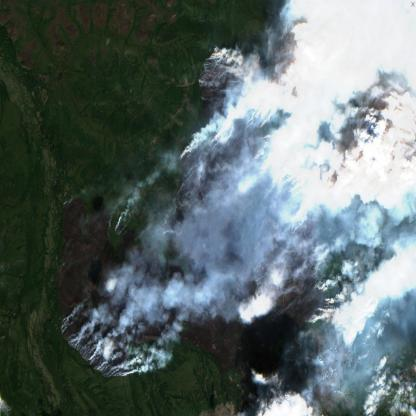fire: (55, 36, 375, 416)
